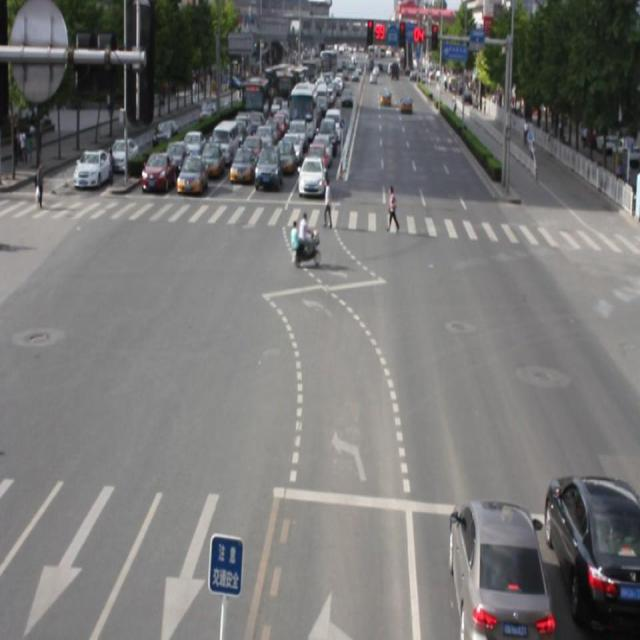car: (535, 460, 640, 640), (449, 492, 539, 640), (251, 147, 284, 205), (298, 152, 328, 214), (75, 136, 109, 188), (288, 76, 316, 137), (109, 120, 137, 180), (231, 140, 262, 188), (182, 159, 210, 212), (145, 153, 173, 199), (216, 112, 239, 164), (156, 112, 179, 150)
